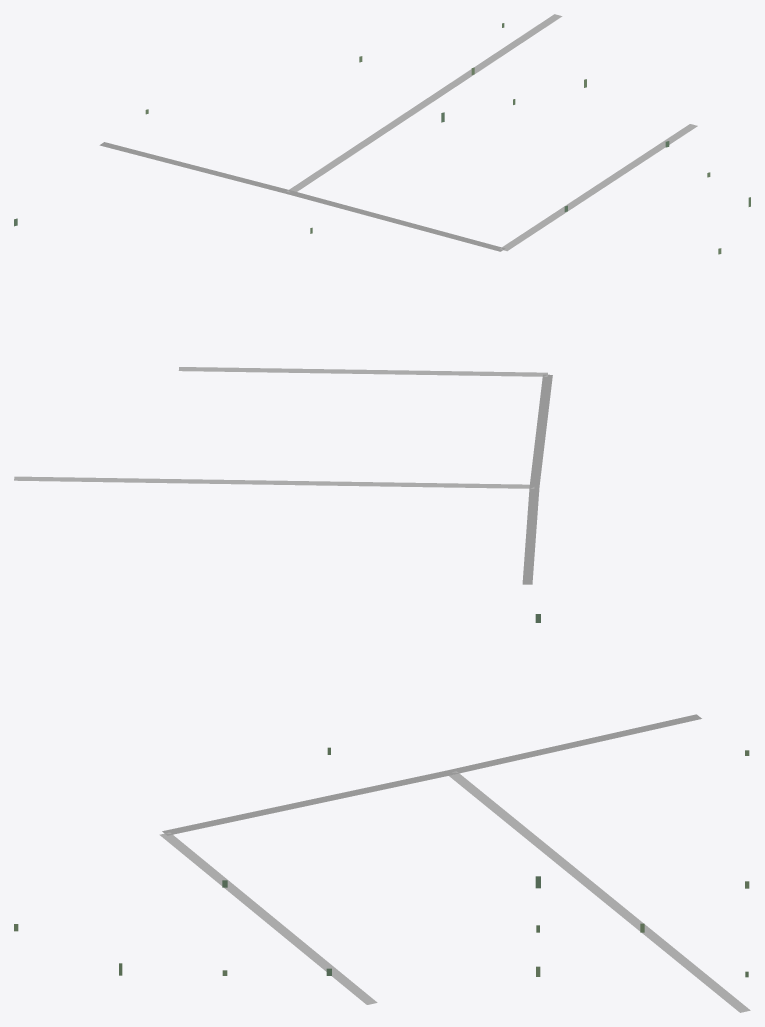
3 views of the same model, one above another, from view 1: azimuth 30°, elevation 25°; view 2: azimuth 150°, elevation 25°; view 3: azimuth 270°, elevation 25° (orthographic). The views are drawn at different scales.
Size of the model in its own units: 529 by 9.1 by 424.
